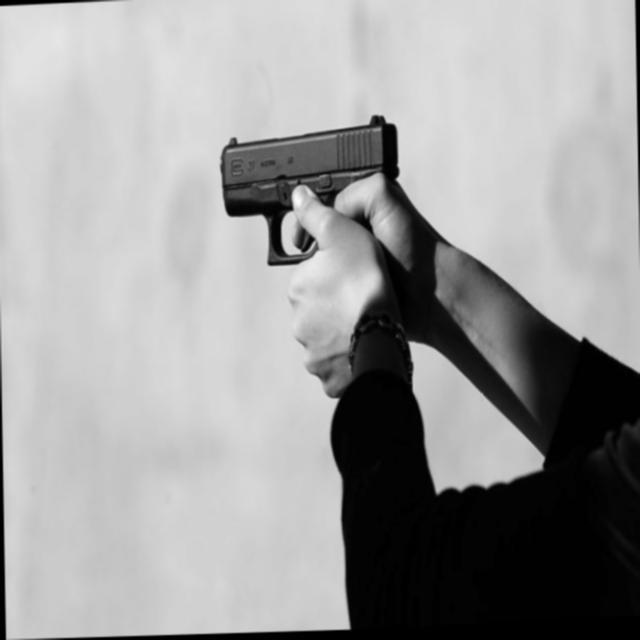weapon: (218, 114, 401, 270)
